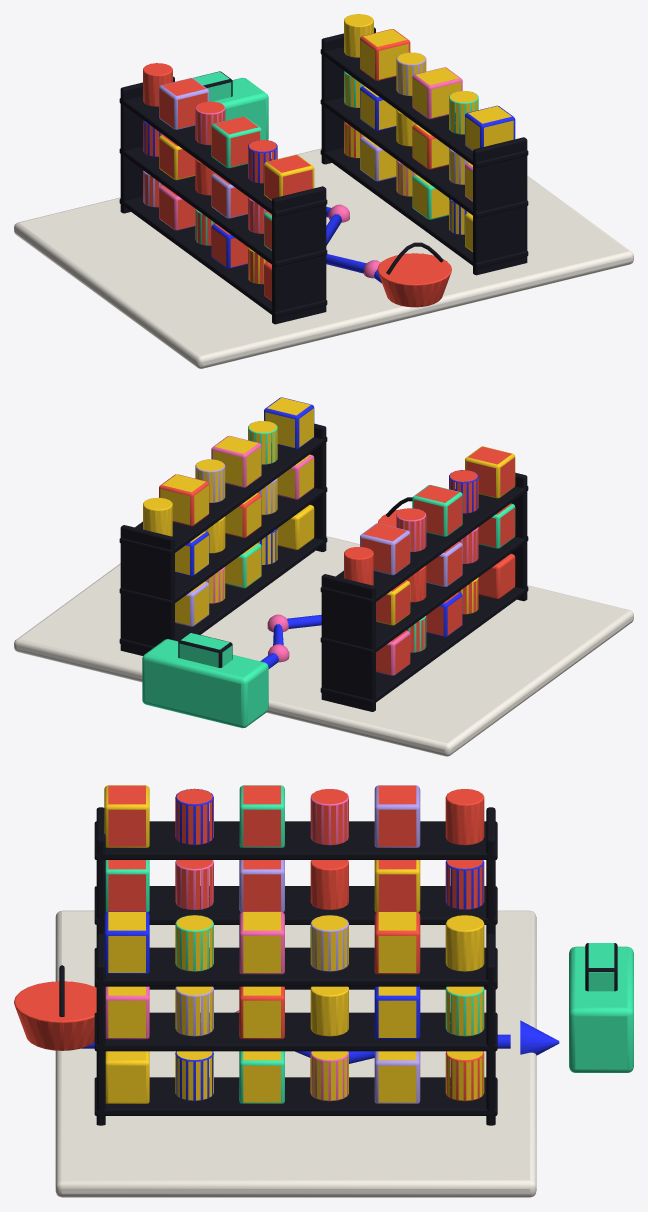
File: market.glb
3 renders of one model, top to bottom at view 1: azimuth 30°, elevation 25°; view 2: azimuth 150°, elevation 25°; view 3: azimuth 270°, elevation 25°, orthographic. The views are drawn at different scales.
Parts seen in each view (by area): view 1: floor, shelves, prodA, prodB, basket, checkout, path; view 2: floor, shelves, prodA, prodB, checkout, path, pulse_nodes; view 3: floor, shelves, prodB, prodA, checkout, basket, path.
Part boxes in pixels (<box>): floor: <box>14,148,633,368</box>; shelves: <box>119,27,528,324</box>; prodA: <box>143,63,314,300</box>; prodB: <box>344,14,515,251</box>; basket: <box>377,242,451,307</box>; checkout: <box>193,71,268,140</box>; path: <box>326,206,381,283</box>; floor: <box>14,536,633,756</box>; shelves: <box>119,423,528,711</box>; prodA: <box>344,446,515,675</box>; prodB: <box>143,397,314,626</box>; checkout: <box>142,632,268,728</box>; path: <box>260,614,321,668</box>; pulse_nodes: <box>267,614,289,662</box>; floor: <box>55,910,536,1197</box>; shelves: <box>94,807,497,1125</box>; prodB: <box>104,911,484,1103</box>; prodA: <box>104,785,484,947</box>; checkout: <box>569,943,633,1072</box>; basket: <box>14,965,96,1050</box>; path: <box>81,1020,559,1063</box>.
Bounding box in the file's own units: 10 × 3.47 × 9.54.
